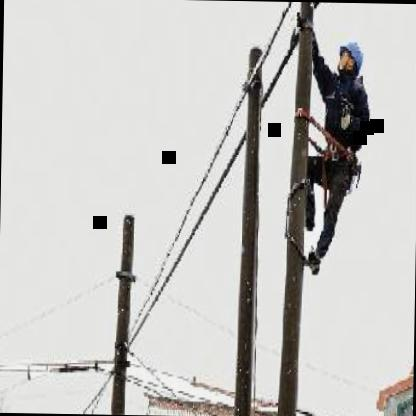helmet: (338, 40, 360, 80)
